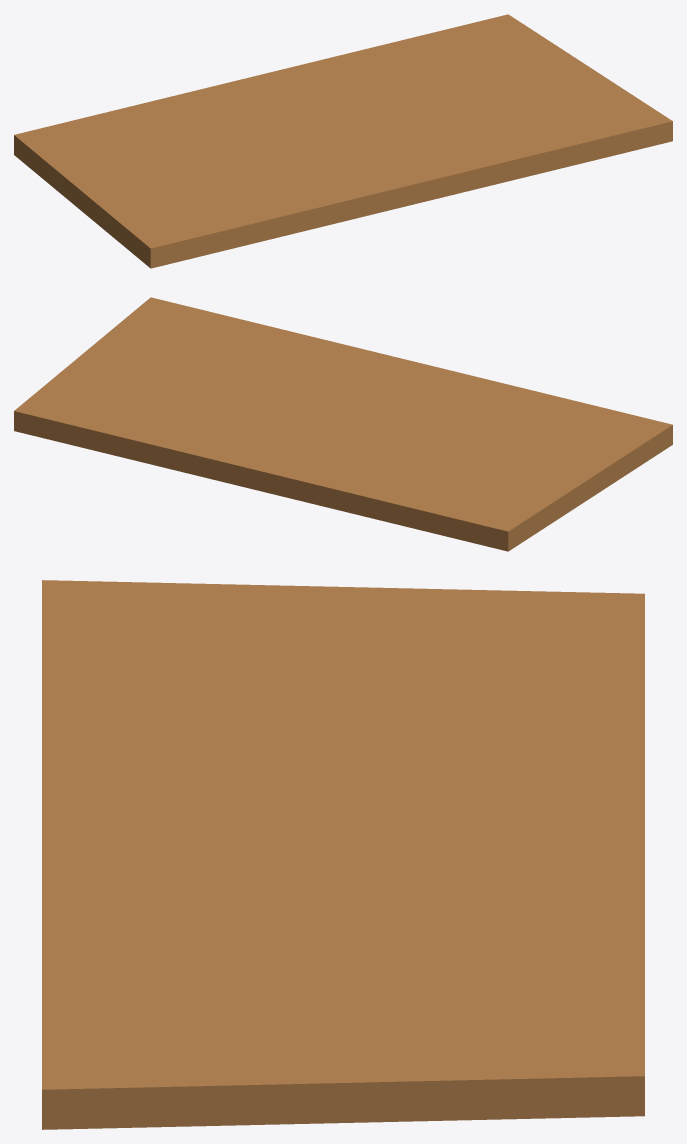
File: tabletop.body.glb
3 views of the same model, one above another, from view 1: azimuth 30°, elevation 25°; view 2: azimuth 150°, elevation 25°; view 3: azimuth 270°, elevation 25° (orthographic). The views are drawn at different scales.
Visible parts, largest first — view 1: geometry_0_cube; view 2: geometry_0_cube; view 3: geometry_0_cube.
Part boxes in pixels (x1,y1,x2,y2): geometry_0_cube: (14,14,672,268); geometry_0_cube: (14,297,672,551); geometry_0_cube: (42,580,644,1129).
Bounding box in the file's own units: 1500 × 55 × 750.
